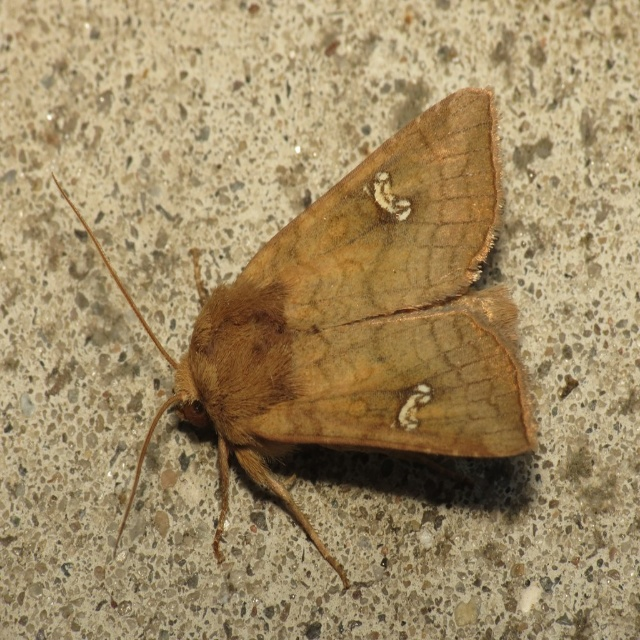Butterfly: (48, 86, 533, 590)
